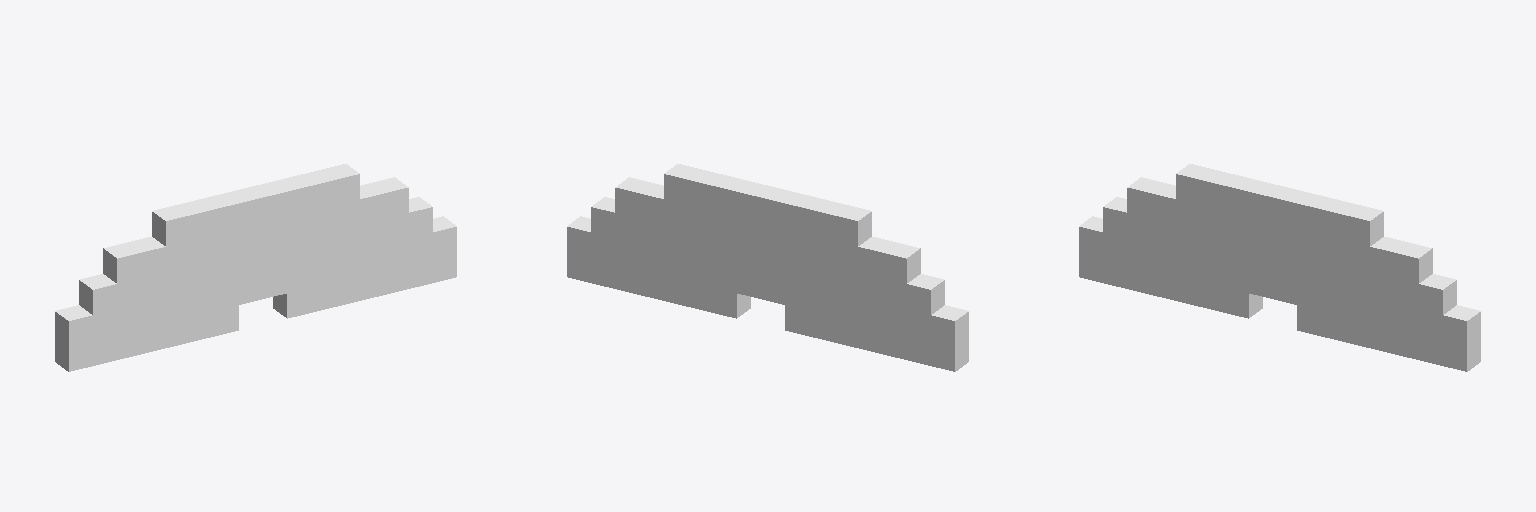
The model's file is Cookie death.obj.
3 renders of one model, left to right at view 1: azimuth 30°, elevation 25°; view 2: azimuth 150°, elevation 25°; view 3: azimuth 330°, elevation 25°, orthographic.
Visible parts, largest first — view 1: object 1; view 2: object 1; view 3: object 1.
Boxes of the visible parts, x1,y1,x2,y2 form: object 1: [55, 164, 456, 371]; object 1: [567, 164, 968, 371]; object 1: [1079, 164, 1480, 371].
Size of the model in its own units: 1.6 by 0.5 by 0.1.